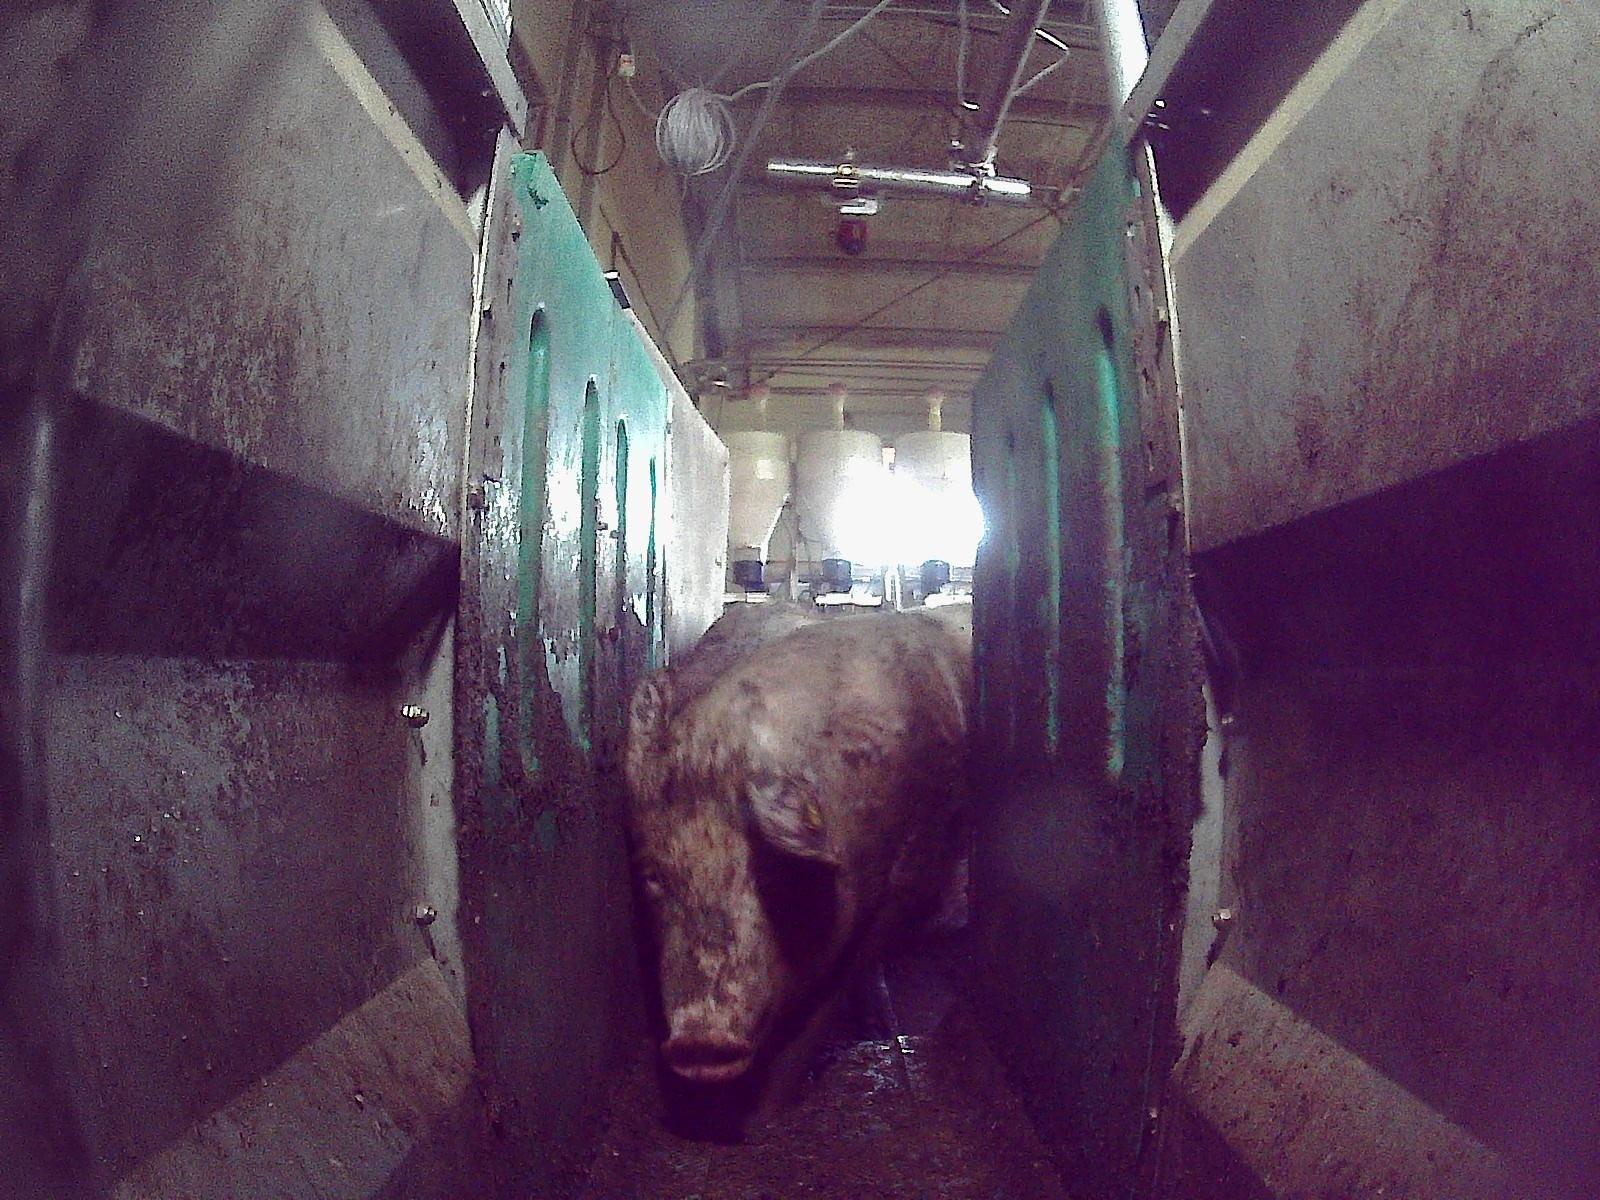Face: (622, 749, 847, 1078)
